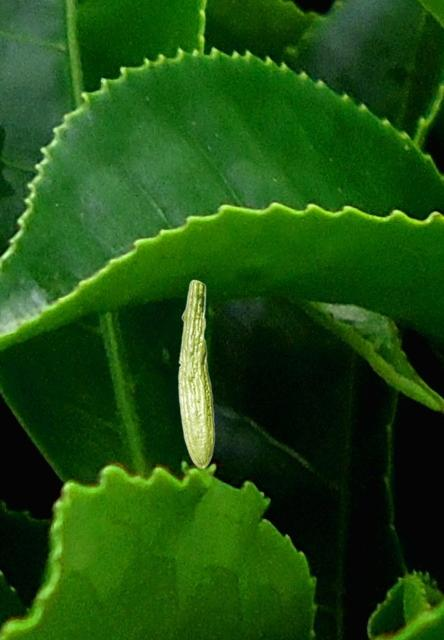ampalaya: (175, 277, 216, 469)
